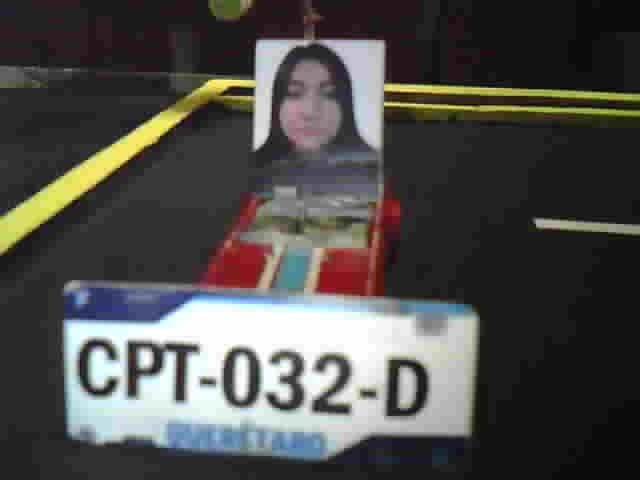PLACA: (59, 277, 481, 474)
ROSTRO: (255, 39, 384, 189)
